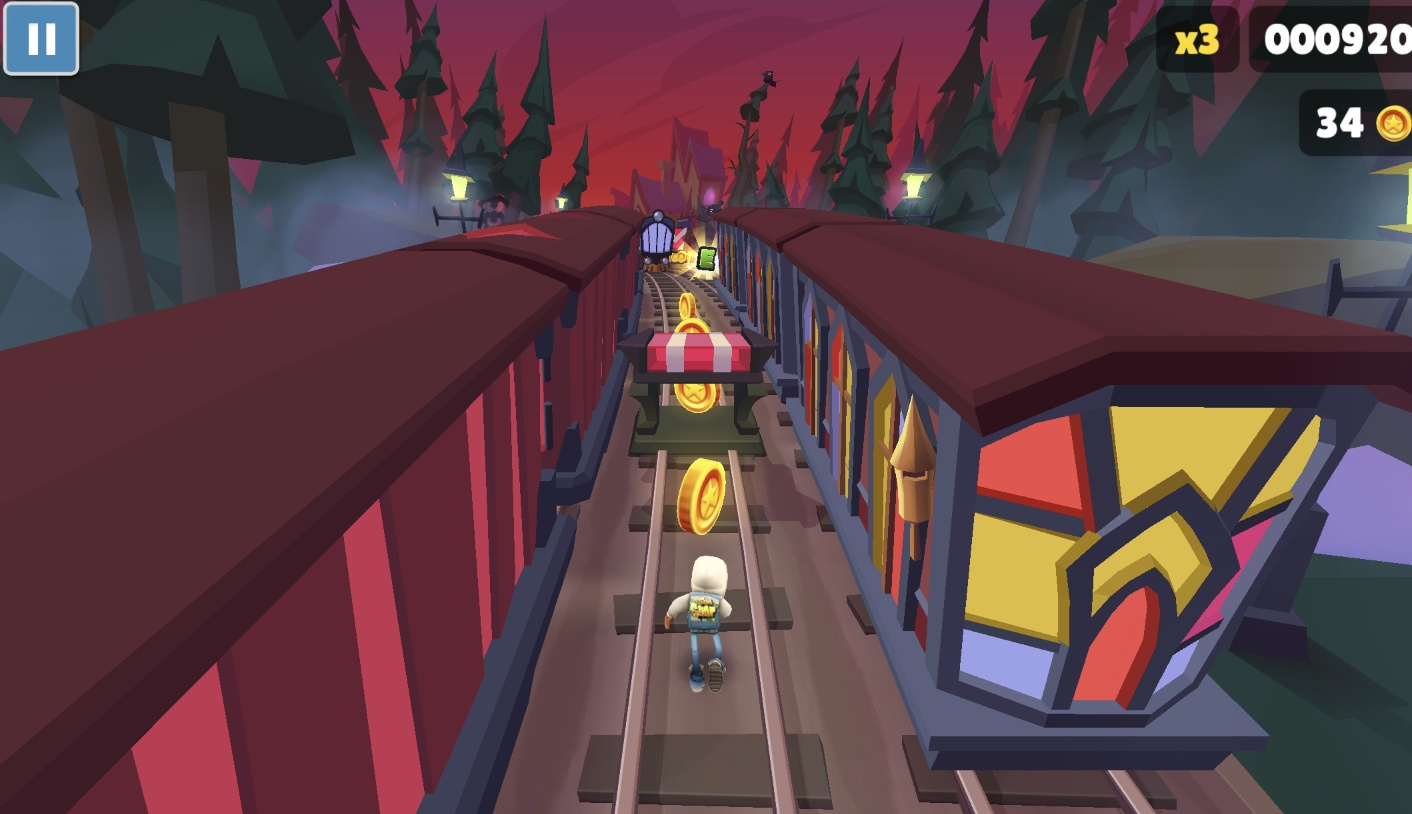ground_barrier: (611, 332, 784, 451)
overhead_barrier: (670, 216, 693, 263)
train: (709, 207, 1412, 785), (0, 206, 649, 814), (640, 210, 685, 273)
